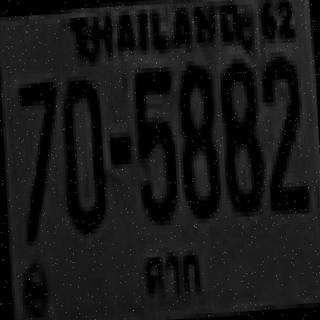N00: (59, 75, 105, 230)
N02: (261, 54, 307, 208)
N05: (132, 67, 176, 222)
N07: (16, 78, 61, 237)
N08: (217, 58, 263, 213), (176, 60, 220, 215)
P69: (139, 249, 208, 309)
